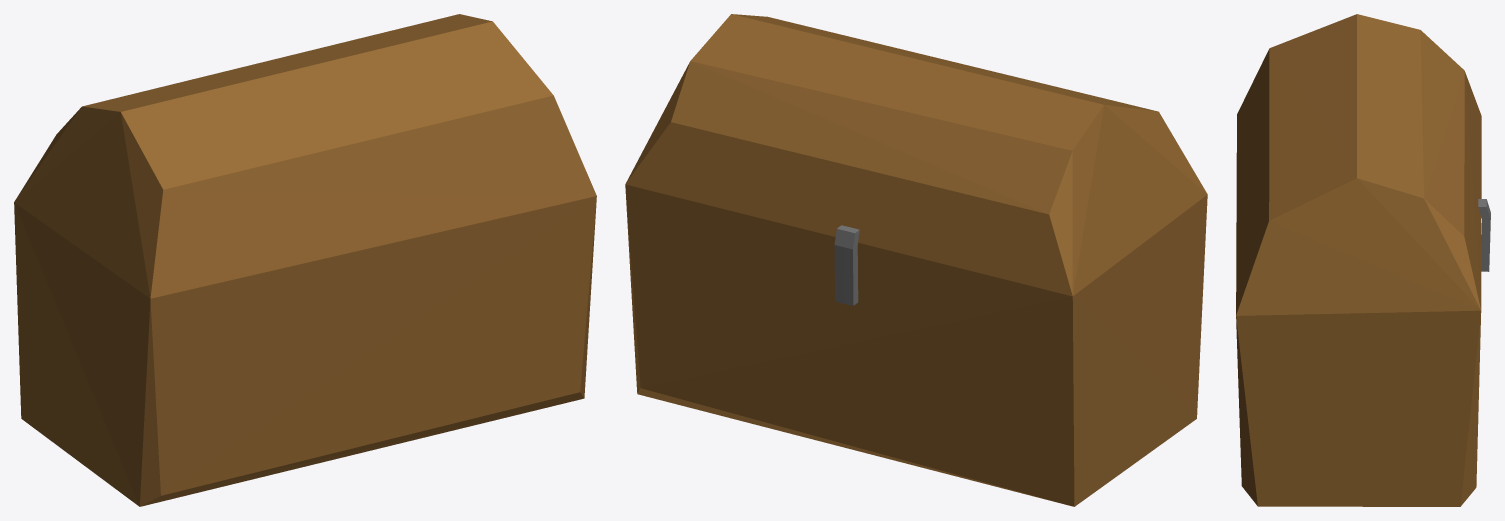
Rendered from chest.fbx.
The picture shows the model from 3 angles, left to right: view 1: azimuth 30°, elevation 25°; view 2: azimuth 150°, elevation 25°; view 3: azimuth 270°, elevation 25°; orthographic projection. The views are drawn at different scales.
Parts seen in each view (by area): view 1: chest; view 2: chest; view 3: chest.
Part boxes in pixels (bbox=[...]): chest: bbox=[14, 14, 596, 506]; chest: bbox=[625, 14, 1207, 506]; chest: bbox=[1236, 14, 1490, 506].
Size of the model in its own units: 0.8788 by 0.6514 by 0.4809.
